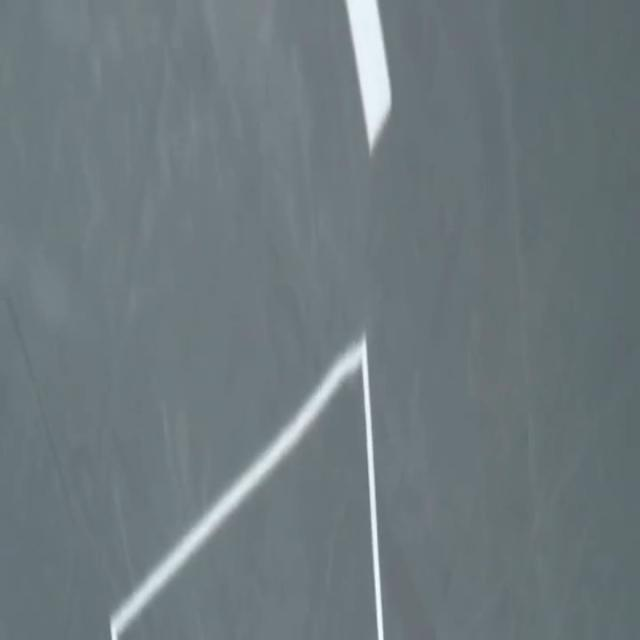center: (345, 0, 391, 155)
